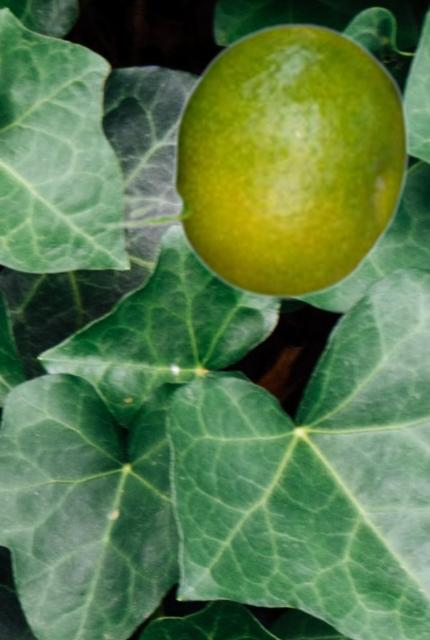calamansi: (93, 21, 409, 299)
